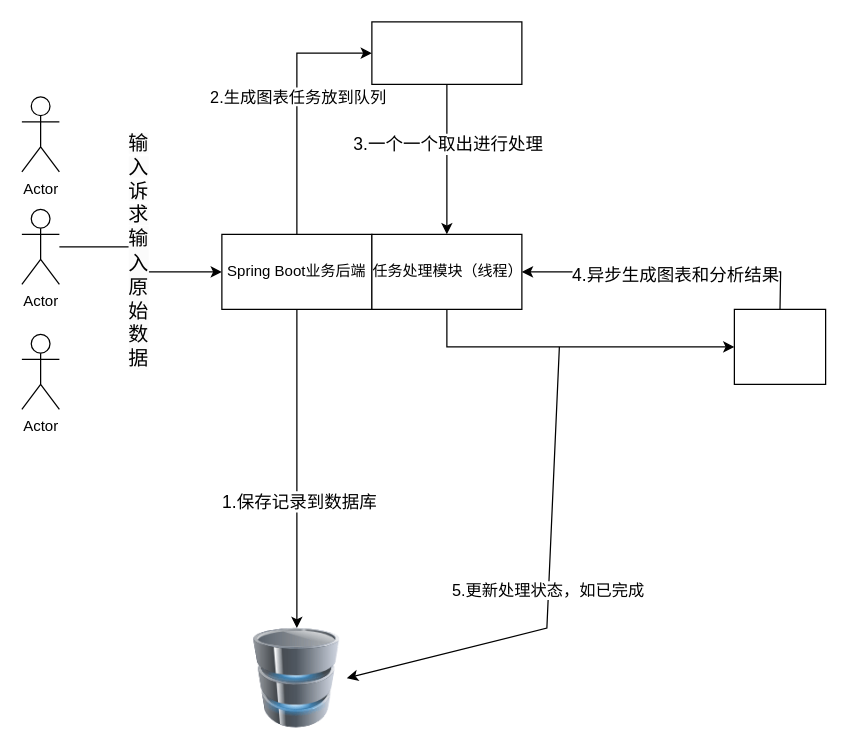
Image size: 848x750. Some labels were removed from this diagram. Each missing label, with the centre of its shape:
AI服务: [779,346]
任务队列: [446,52]
